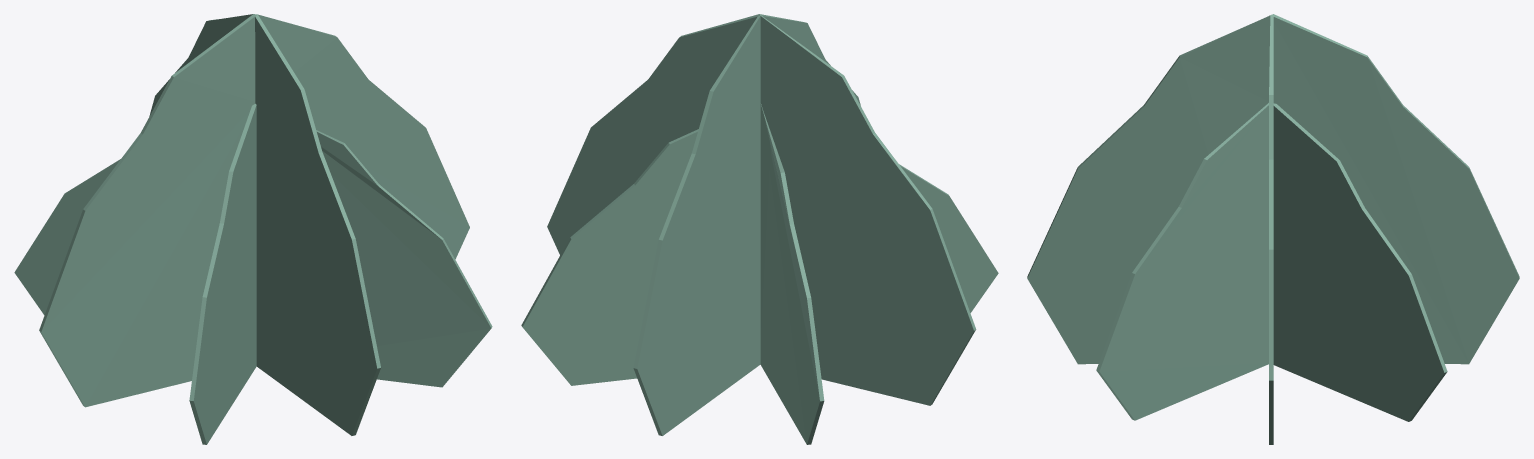
Rendered from Nature GrassBush 6.fbx.
The picture shows the model from 3 angles, left to right: view 1: azimuth 30°, elevation 25°; view 2: azimuth 150°, elevation 25°; view 3: azimuth 270°, elevation 25°; orthographic projection.
Visible parts, largest first — view 1: Nature GrassBush 6; view 2: Nature GrassBush 6; view 3: Nature GrassBush 6.
Part boxes in pixels (left/top/right/bottom): Nature GrassBush 6: left=14, top=14, right=492, bottom=444; Nature GrassBush 6: left=521, top=14, right=998, bottom=444; Nature GrassBush 6: left=1027, top=14, right=1519, bottom=444.
Size of the model in its own units: 110 by 86.04 by 110.
